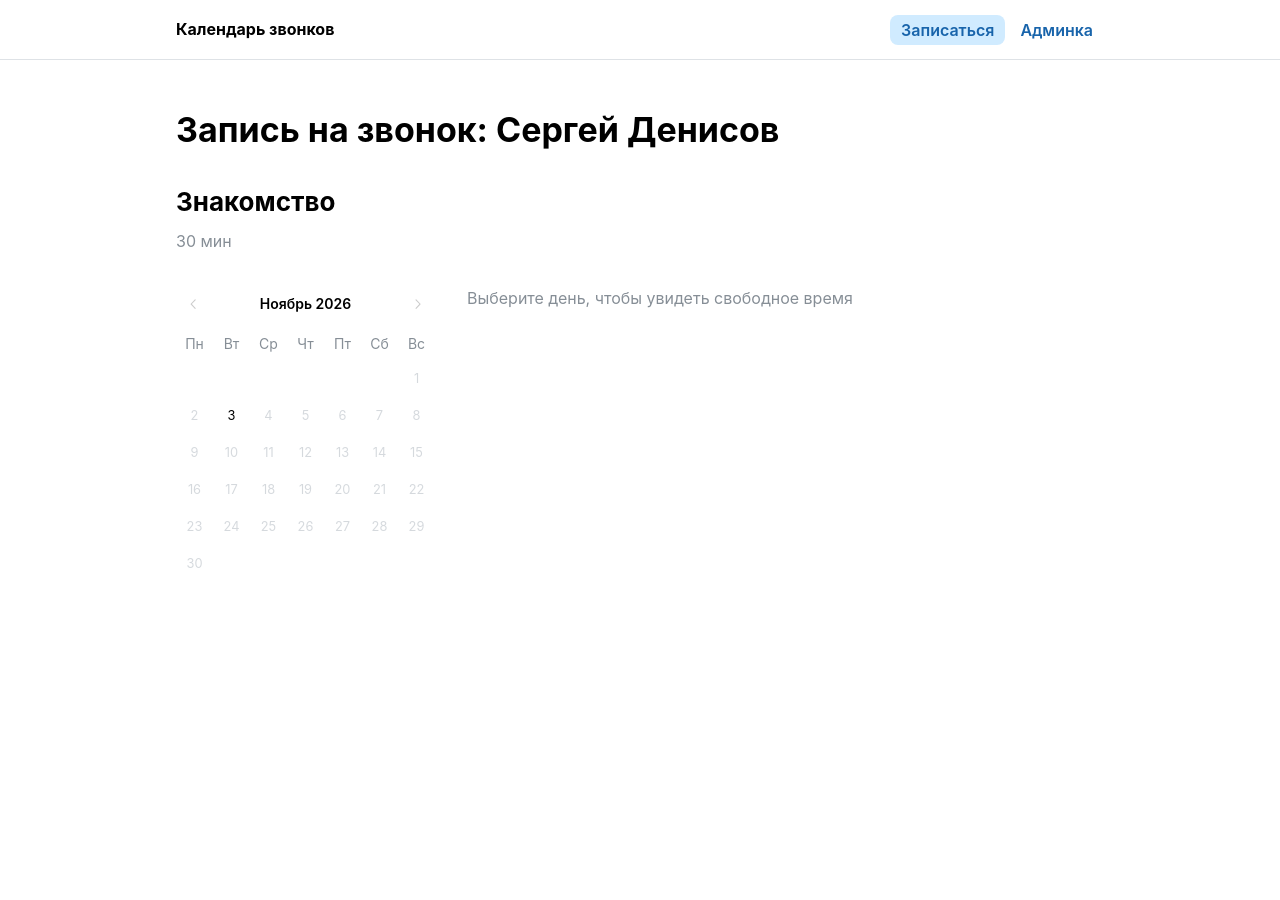
Test: the booking form › shows the server messages next to their fields
Click the button named "3 ноября 2026". click: (232,416)
box: left=214, top=398, right=250, bottom=434
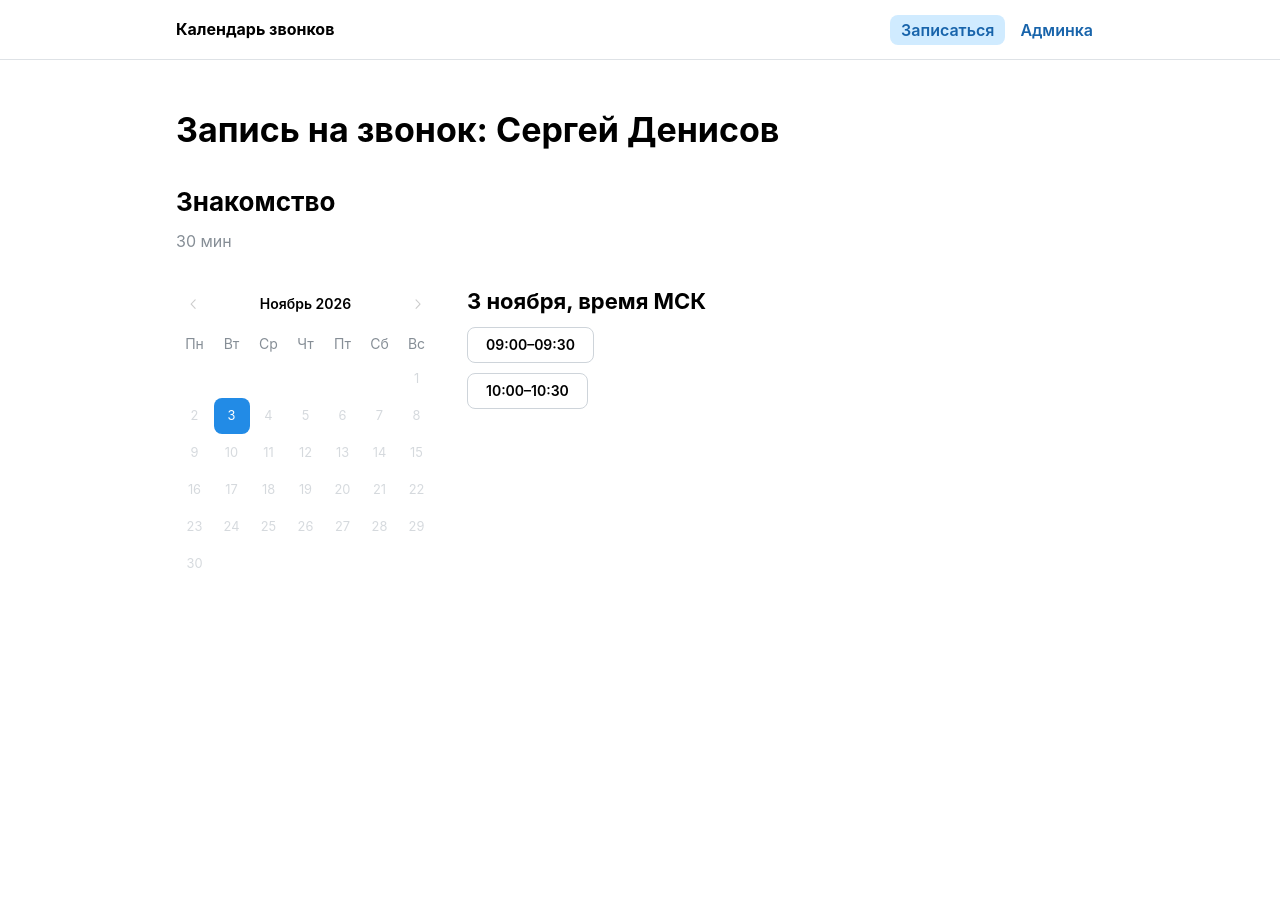
Click the button "10:00–10:30". click: (527,391)
box: left=467, top=373, right=588, bottom=409
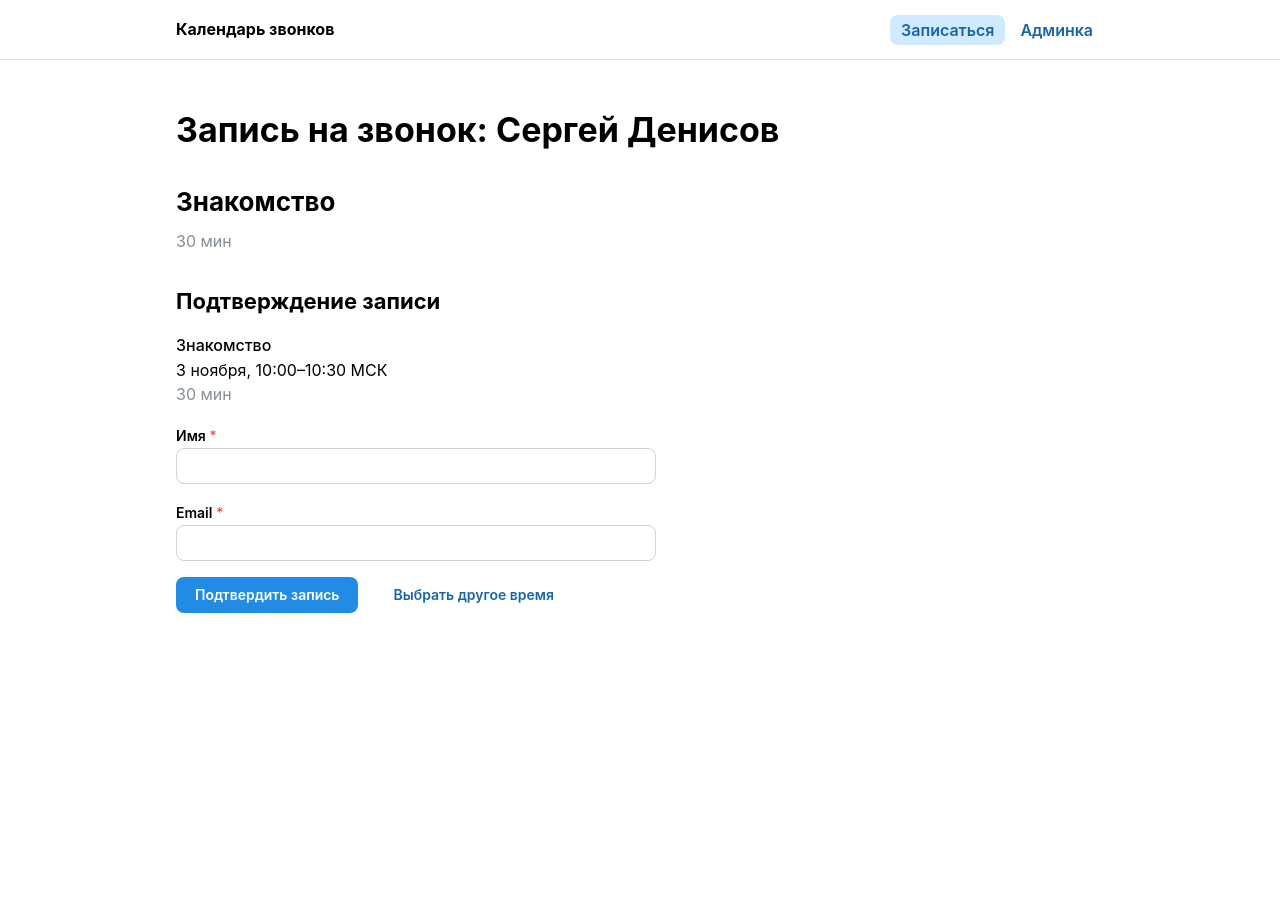
Type "Анна Петрова" into the field labelled "Имя". click: (416,466)
box: left=176, top=448, right=656, bottom=484
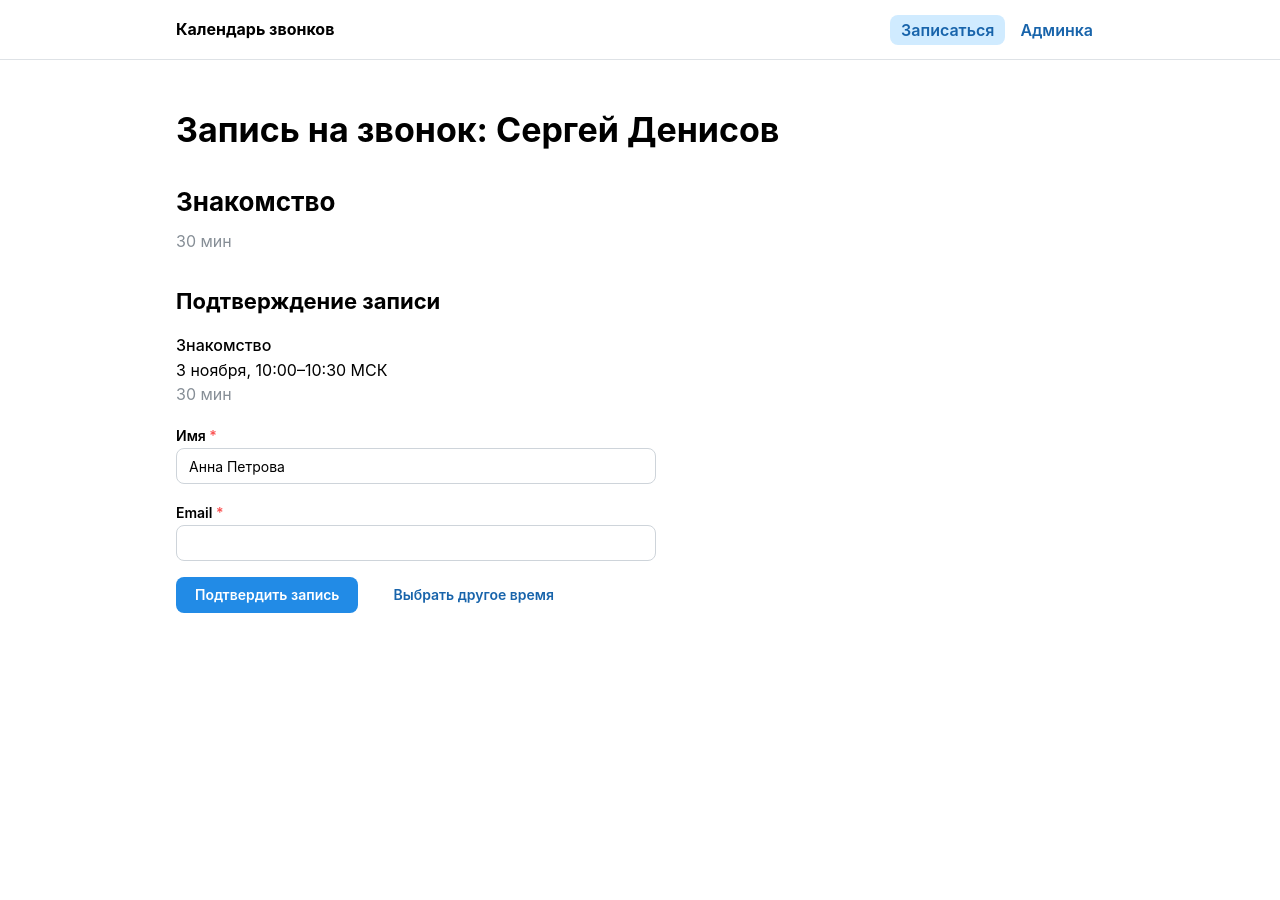
Type "anna.example.com" into the field labelled "Email". click: (416,543)
box: left=176, top=525, right=656, bottom=561
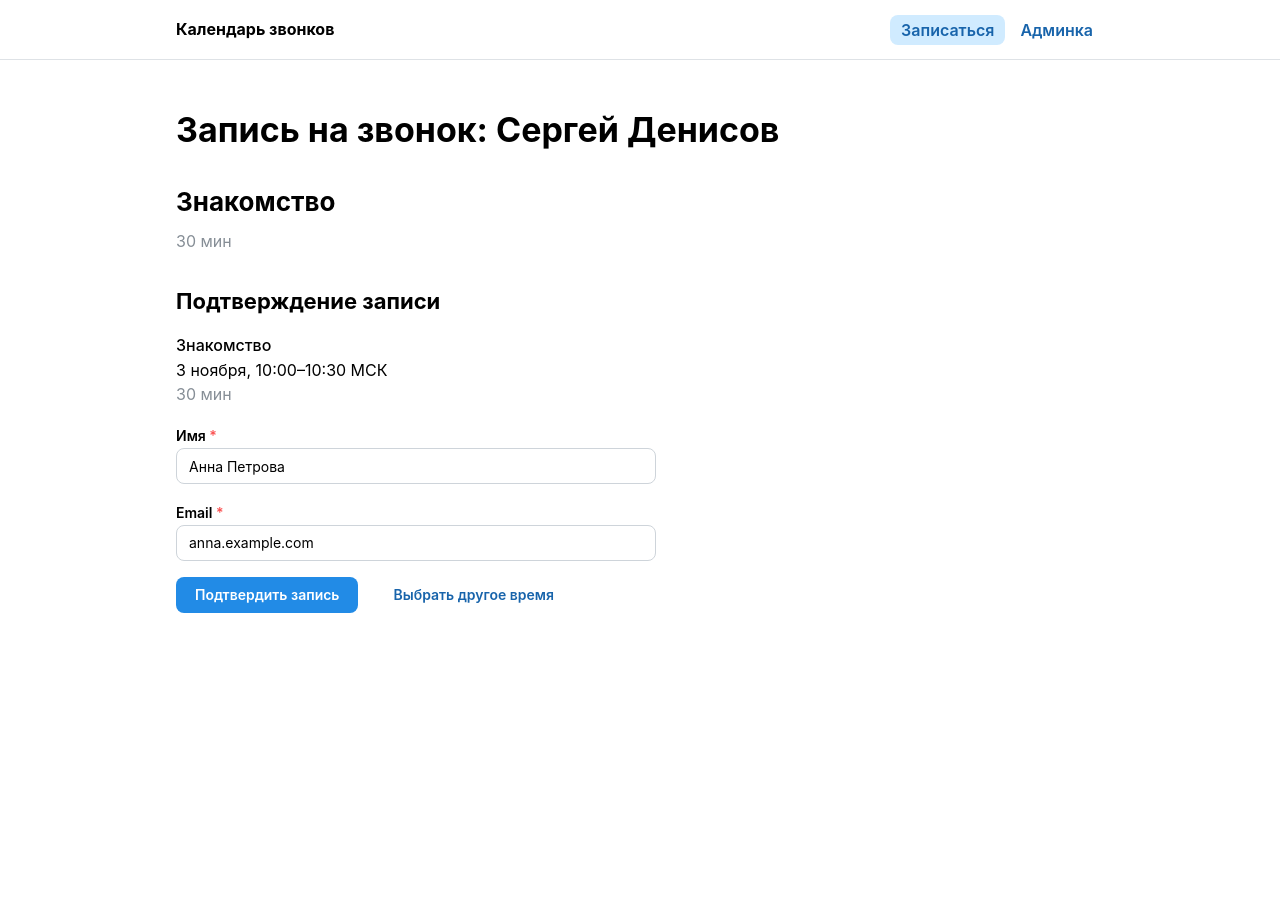
Click the button "Подтвердить запись". click: (267,595)
box: left=176, top=577, right=358, bottom=613
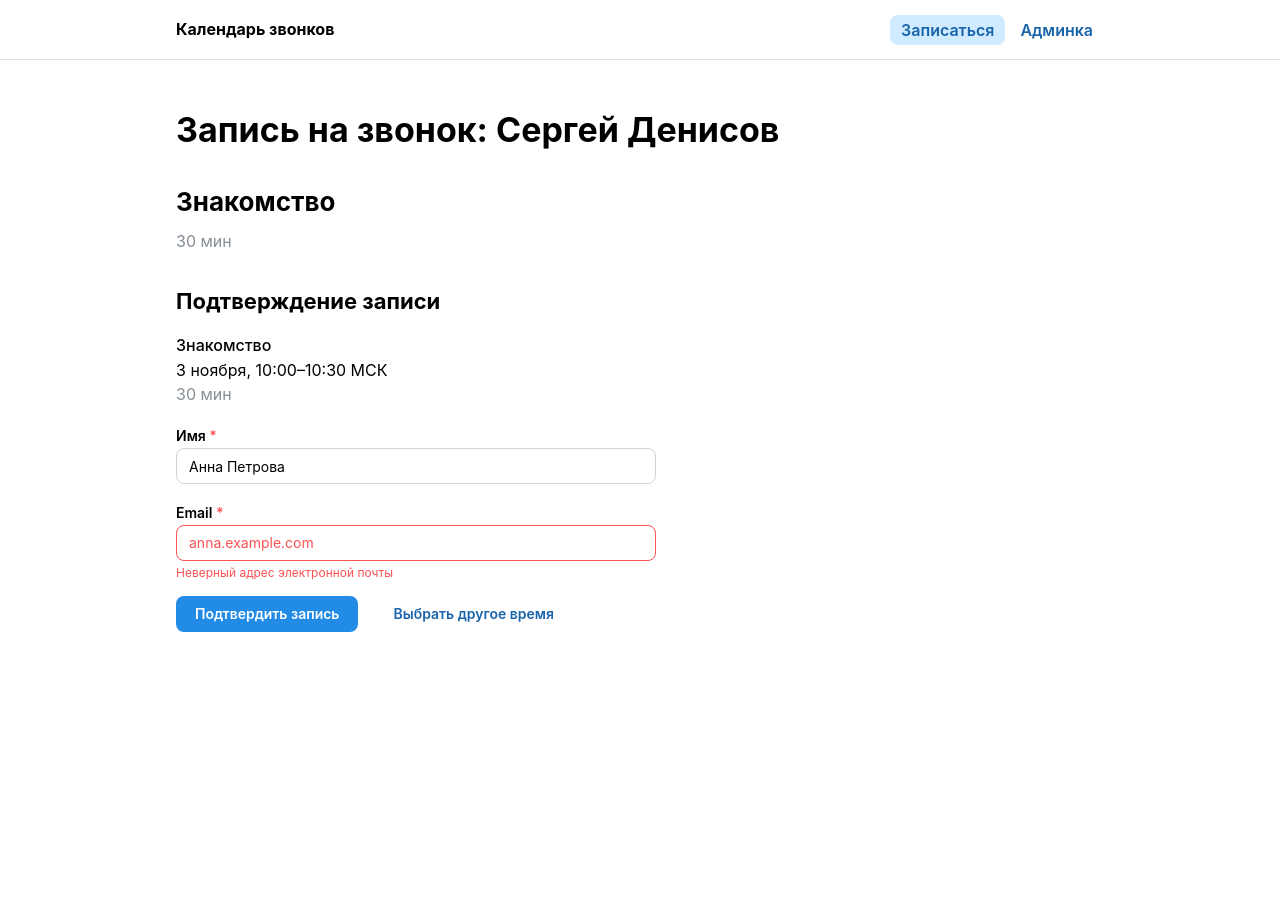
Check: the text "Неверный адрес электронной почты" is shown, box left=176, top=565, right=393, bottom=580
